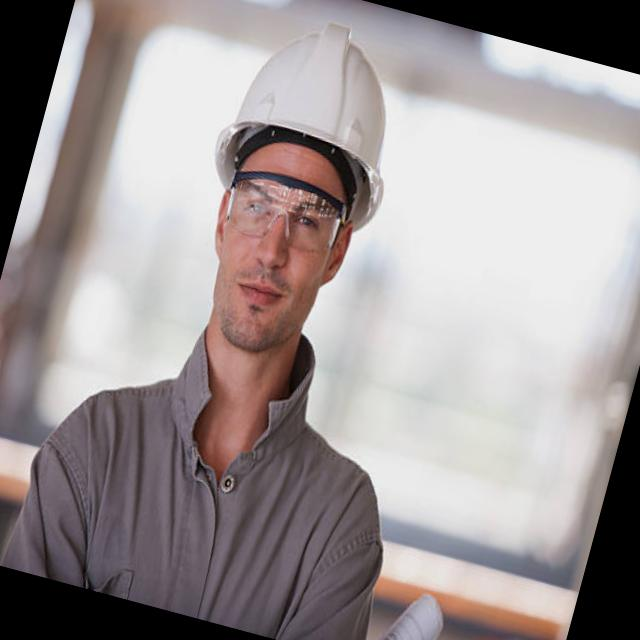goggles: (216, 156, 353, 262)
helmet: (199, 0, 431, 240)
no-vest: (0, 283, 428, 640)
